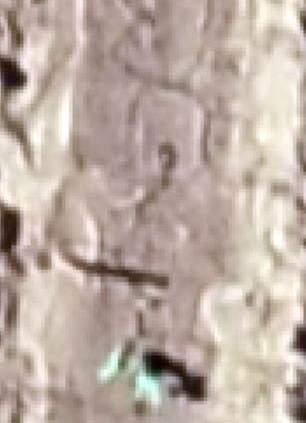cotton: (103, 350, 133, 381), (132, 370, 160, 401)
